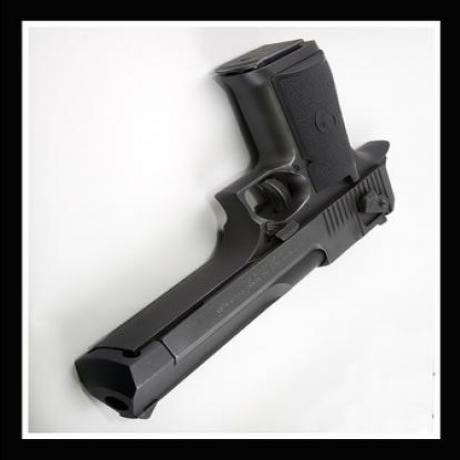weapon: (55, 34, 406, 422)
